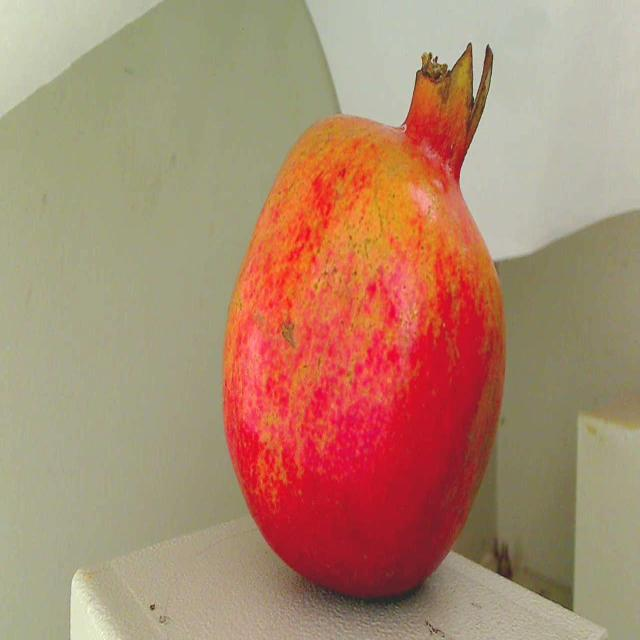pomegranate: (209, 45, 518, 605)
